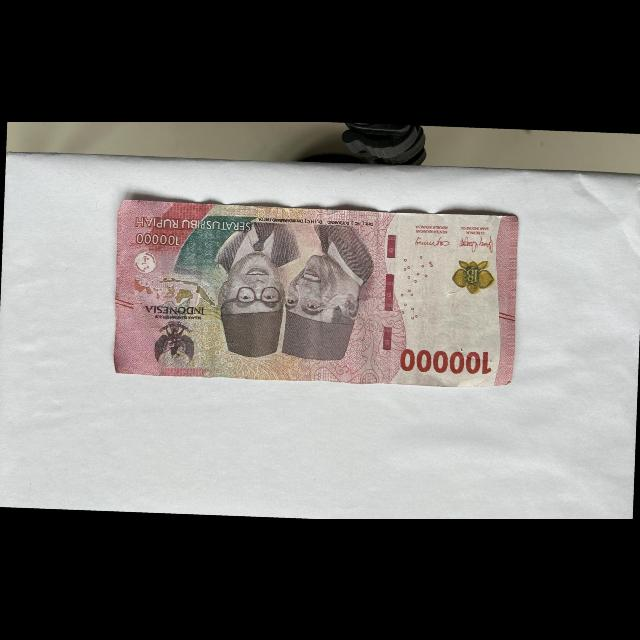Palsu-100k: (107, 195, 522, 393)
Tinta-Palsu-100k: (451, 259, 497, 295)
